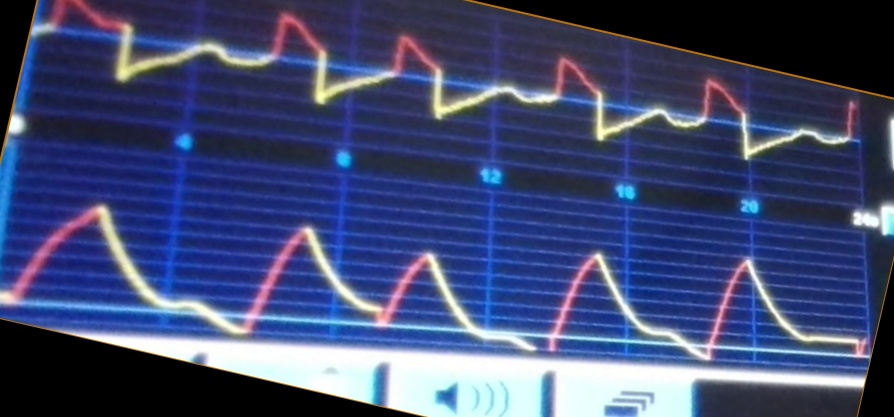Ineffective_effort Flow: (36, 1, 855, 161)
Ineffective_effort Volume: (4, 201, 864, 361)
